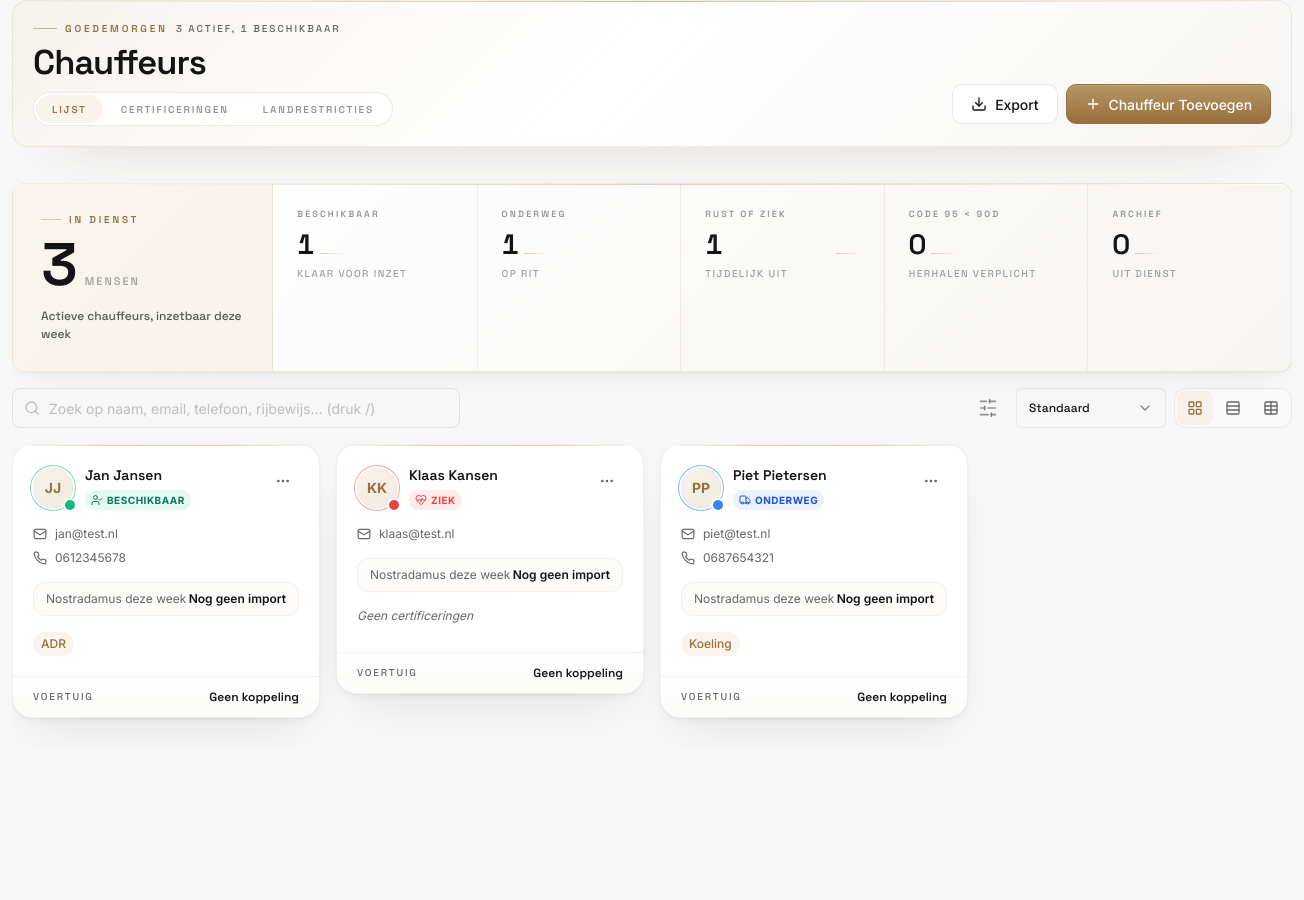
Chauffeurs › filters drivers by search (filtered useMemo)
The width and height of the screenshot is (1304, 900).
Step 1. Type "Jan" into the field with placeholder "Zoek op naam, email, telefoon, rijbewijs... (druk /)" → {"x": 236, "y": 408}, box [12,388,460,428]
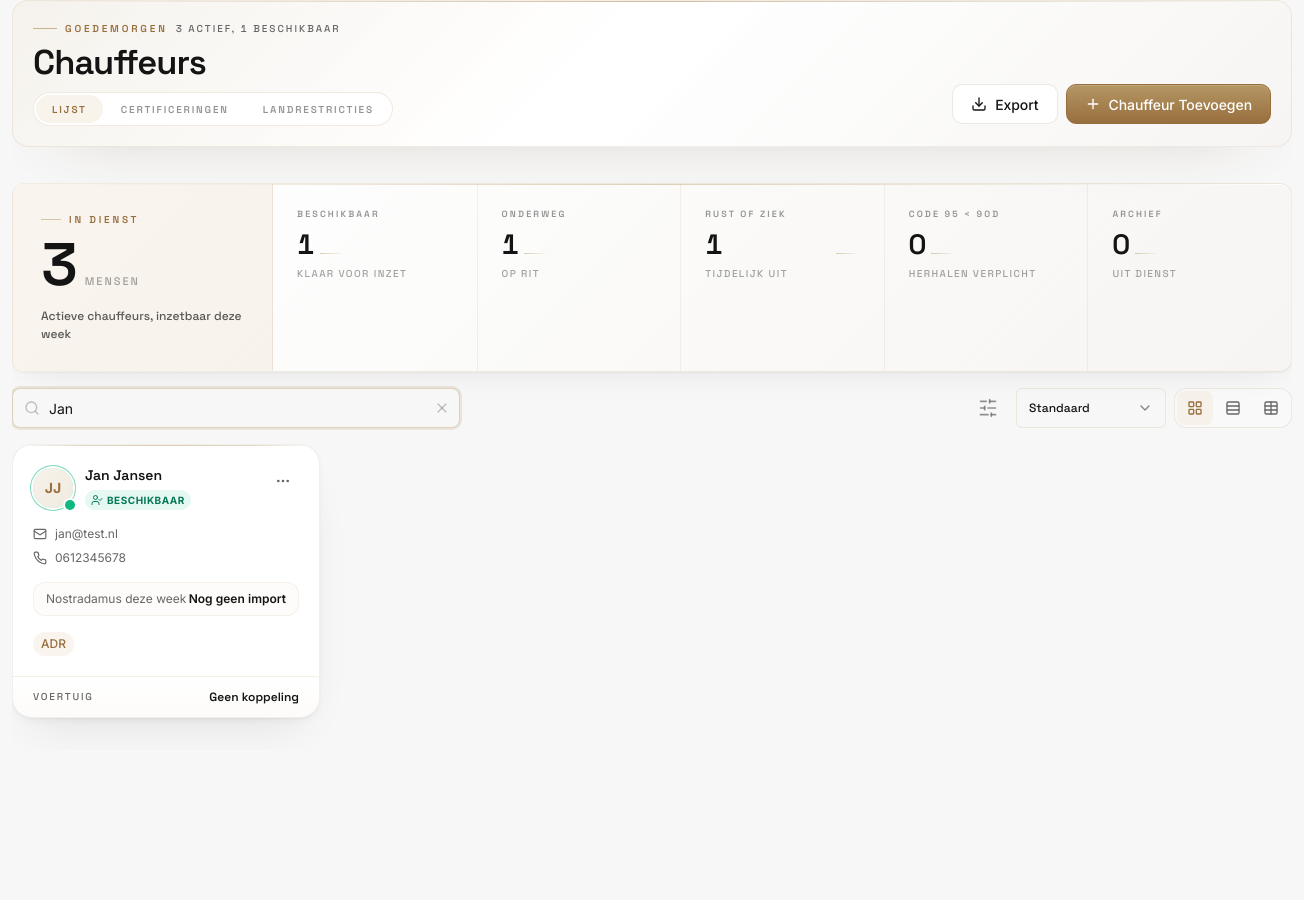
Expected: the heading "Jan Jansen" is shown, [85,466,162,484]
Expected: the heading "Piet Pietersen" is gone
